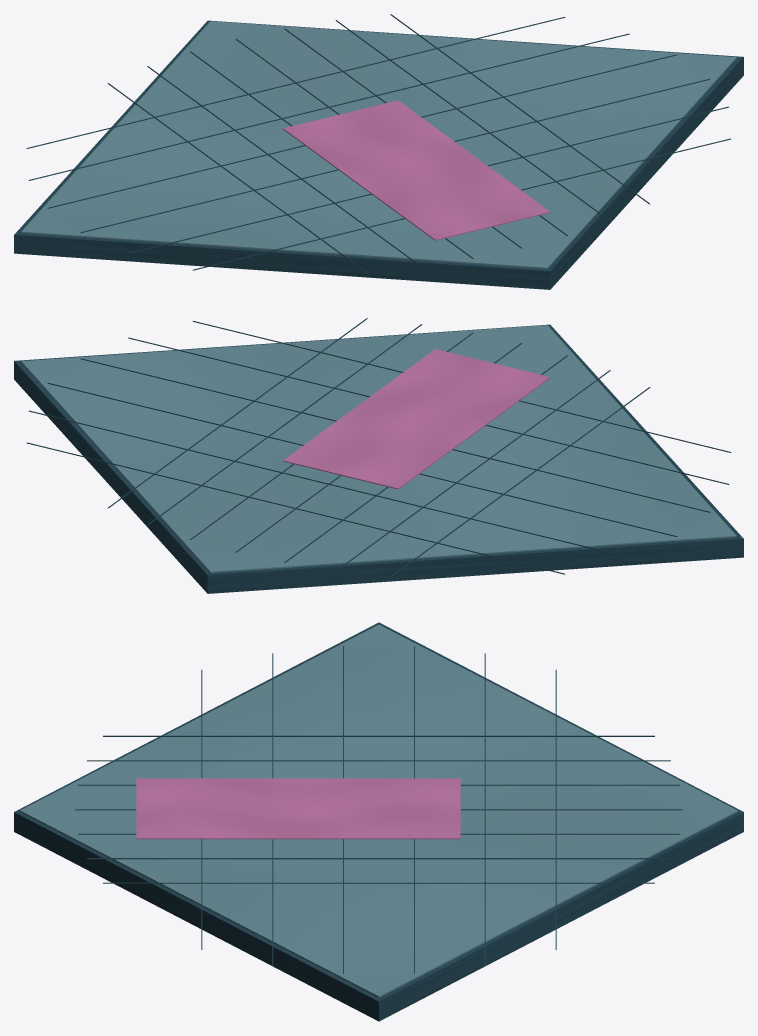
The model's file is atlas100-s062-a07.lod2.glb.
3 views of the same model, one above another, from view 1: azimuth 30°, elevation 25°; view 2: azimuth 150°, elevation 25°; view 3: azimuth 270°, elevation 25° (orthographic). The views are drawn at different scales.
Parts seen in each view (by area): view 1: atlas100-s062-a07:part-001, atlas100-s062-a07:part-000, atlas100-s062-a07:part-021, atlas100-s062-a07:part-015, atlas100-s062-a07:part-014, atlas100-s062-a07:part-017, atlas100-s062-a07:part-016, atlas100-s062-a07:part-018, atlas100-s062-a07:part-019, atlas100-s062-a07:part-009, atlas100-s062-a07:part-005, atlas100-s062-a07:part-010 (+1 smaller); view 2: atlas100-s062-a07:part-001, atlas100-s062-a07:part-000, atlas100-s062-a07:part-021, atlas100-s062-a07:part-015, atlas100-s062-a07:part-014, atlas100-s062-a07:part-017, atlas100-s062-a07:part-016, atlas100-s062-a07:part-018, atlas100-s062-a07:part-019, atlas100-s062-a07:part-009, atlas100-s062-a07:part-005, atlas100-s062-a07:part-010 (+1 smaller); view 3: atlas100-s062-a07:part-001, atlas100-s062-a07:part-021, atlas100-s062-a07:part-000, atlas100-s062-a07:part-005, atlas100-s062-a07:part-009, atlas100-s062-a07:part-010, atlas100-s062-a07:part-004.
Part boxes in pixels (left/top/right/bottom): atlas100-s062-a07:part-001: left=21, top=21, right=736, bottom=268; atlas100-s062-a07:part-000: left=14, top=20, right=743, bottom=289; atlas100-s062-a07:part-021: left=283, top=100, right=550, bottom=240; atlas100-s062-a07:part-015: left=28, top=33, right=629, bottom=180; atlas100-s062-a07:part-014: left=26, top=17, right=565, bottom=148; atlas100-s062-a07:part-017: left=80, top=78, right=710, bottom=232; atlas100-s062-a07:part-016: left=47, top=54, right=676, bottom=208; atlas100-s062-a07:part-018: left=128, top=106, right=729, bottom=253; atlas100-s062-a07:part-019: left=193, top=138, right=730, bottom=270; atlas100-s062-a07:part-009: left=335, top=20, right=610, bottom=221; atlas100-s062-a07:part-005: left=147, top=66, right=421, bottom=267; atlas100-s062-a07:part-010: left=390, top=14, right=649, bottom=204; atlas100-s062-a07:part-001: left=21, top=325, right=736, bottom=572; atlas100-s062-a07:part-000: left=14, top=324, right=743, bottom=593; atlas100-s062-a07:part-021: left=283, top=349, right=550, bottom=489; atlas100-s062-a07:part-015: left=28, top=410, right=629, bottom=557; atlas100-s062-a07:part-014: left=27, top=442, right=564, bottom=574; atlas100-s062-a07:part-017: left=81, top=358, right=710, bottom=512; atlas100-s062-a07:part-016: left=47, top=382, right=677, bottom=536; atlas100-s062-a07:part-018: left=128, top=337, right=729, bottom=484; atlas100-s062-a07:part-019: left=192, top=321, right=731, bottom=452; atlas100-s062-a07:part-009: left=147, top=324, right=422, bottom=525; atlas100-s062-a07:part-005: left=336, top=370, right=610, bottom=571; atlas100-s062-a07:part-010: left=108, top=318, right=367, bottom=508; atlas100-s062-a07:part-001: left=20, top=624, right=737, bottom=997; atlas100-s062-a07:part-021: left=136, top=778, right=460, bottom=839; atlas100-s062-a07:part-000: left=14, top=622, right=743, bottom=1021; atlas100-s062-a07:part-005: left=87, top=760, right=670, bottom=761; atlas100-s062-a07:part-009: left=87, top=858, right=670, bottom=859; atlas100-s062-a07:part-010: left=103, top=882, right=654, bottom=883; atlas100-s062-a07:part-004: left=103, top=735, right=654, bottom=736.
Bounding box in the file's own units: 13.95 × 0.404 × 11.34.
Materials: 3 (3 with a texture image).
